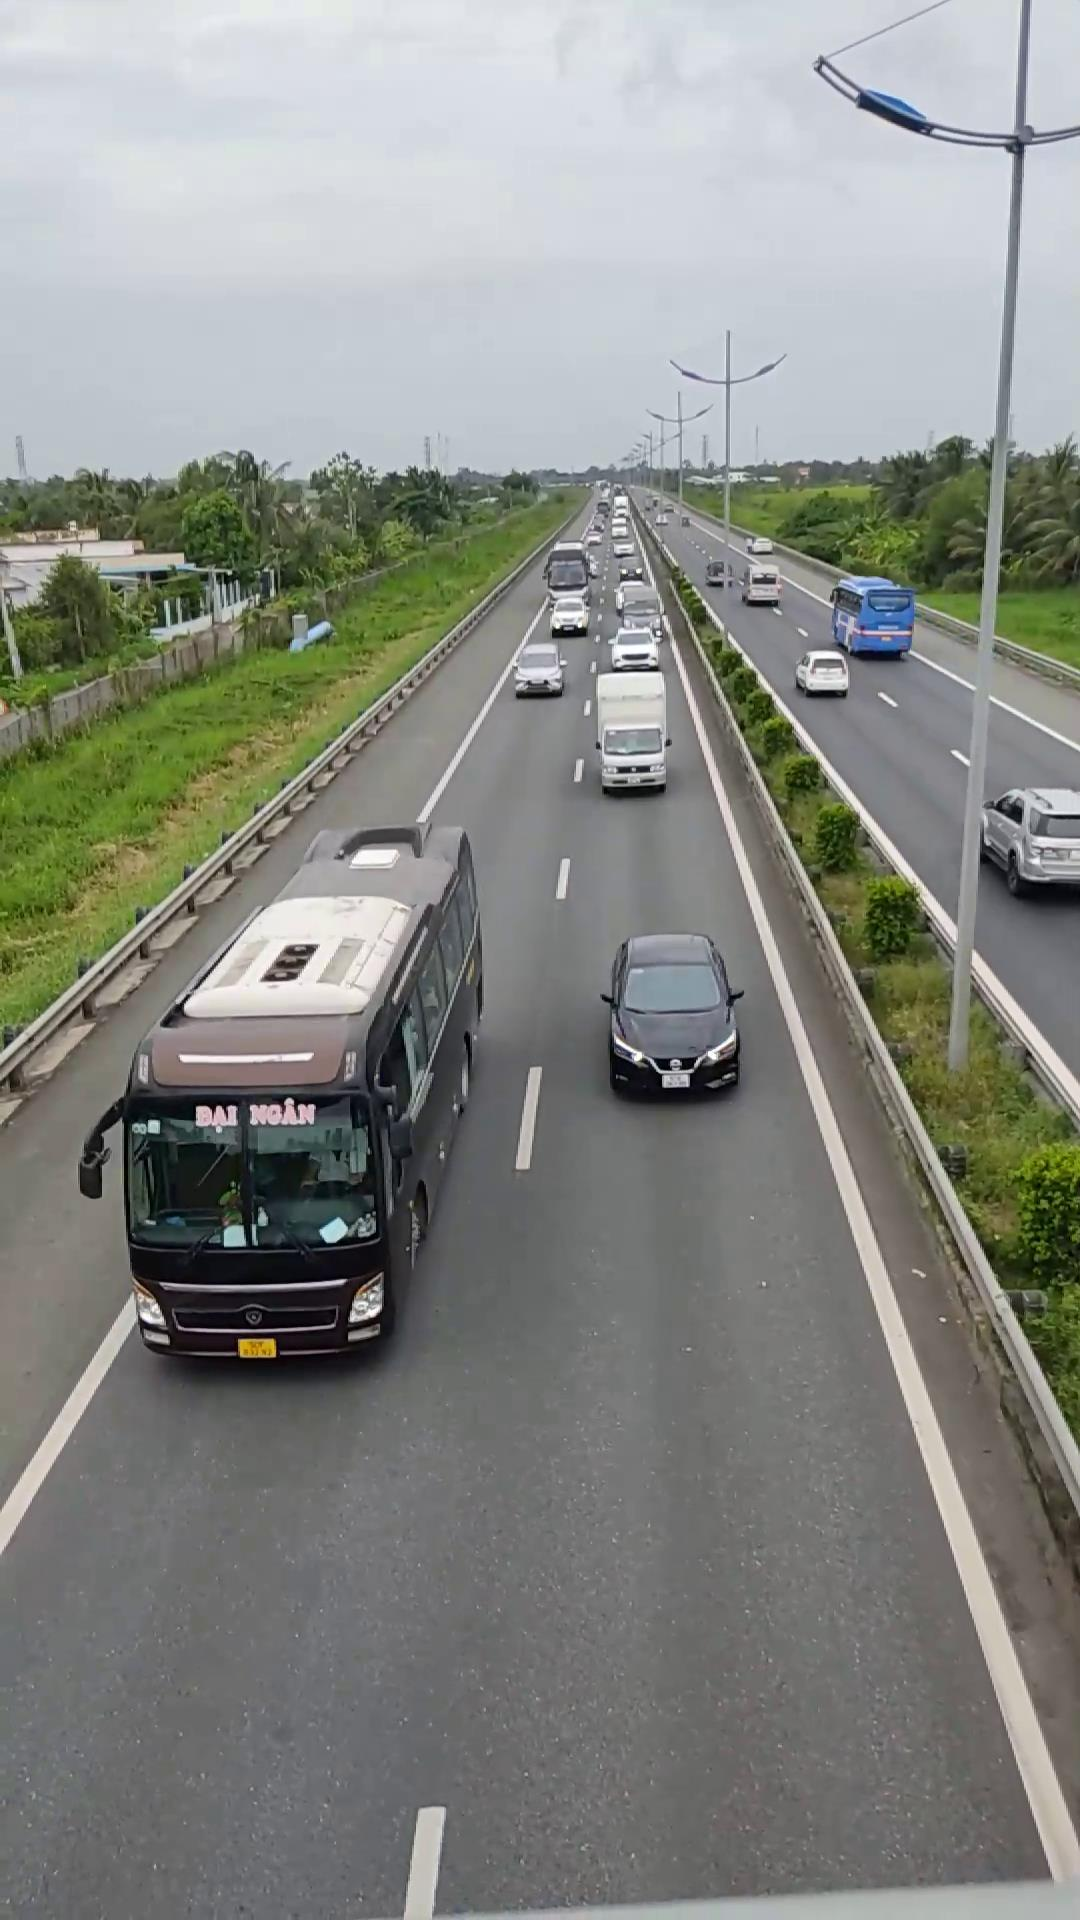bus: (80, 822, 488, 1361)
car: (601, 932, 742, 1097), (971, 694, 1077, 895)
truck: (588, 669, 673, 793)
